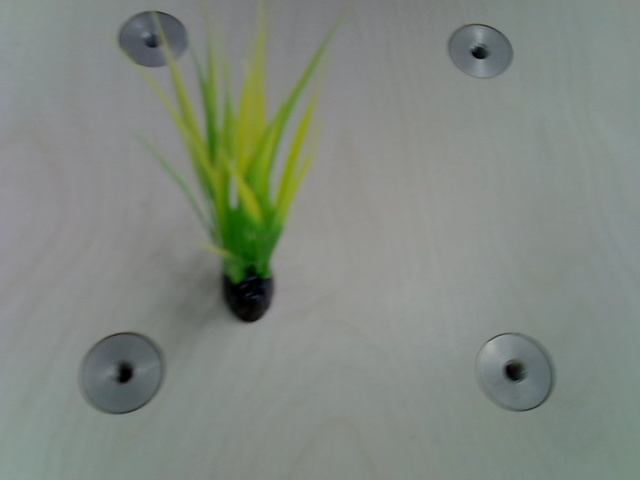해바라기새싹: (138, 5, 349, 323)
